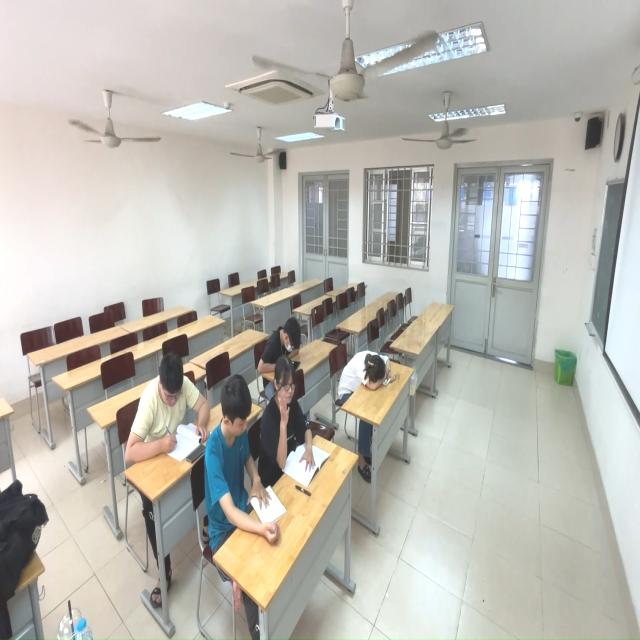raise_hand: (261, 358, 324, 485)
read: (204, 371, 281, 548), (135, 338, 208, 476)
sleep: (340, 347, 399, 398), (263, 313, 306, 380)
